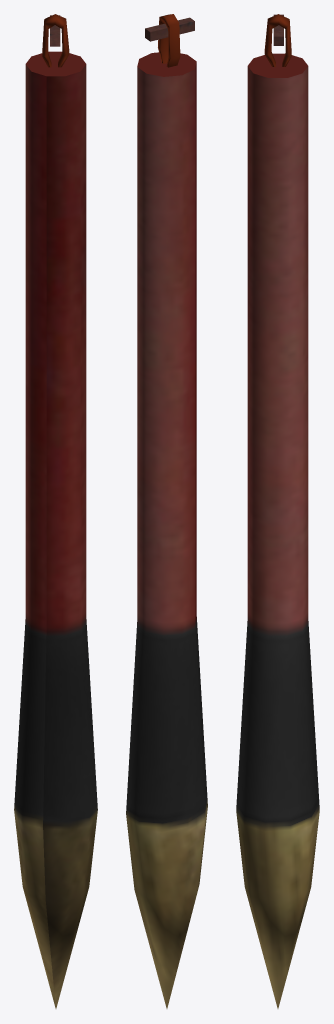
Rendered from maobi.fbx.
The picture shows the model from 3 angles, left to right: view 1: azimuth 90°, elevation 25°; view 2: azimuth 210°, elevation 25°; view 3: azimuth 270°, elevation 25°; orthographic projection.
Visible parts, largest first — view 1: taocichangjing_maobijia; view 2: taocichangjing_maobijia; view 3: taocichangjing_maobijia.
Boxes of the visible parts, x1,y1,x2,y2 form: taocichangjing_maobijia: (14,14,97,1008); taocichangjing_maobijia: (126,14,207,1008); taocichangjing_maobijia: (236,14,319,1008).
Size of the model in its own units: 3.19 by 43.88 by 3.35.
